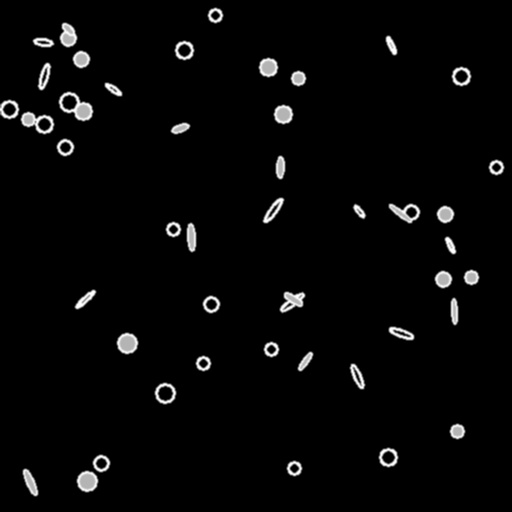pseudomonas: (278, 290, 306, 314), (262, 197, 284, 223), (388, 203, 412, 223), (22, 469, 38, 495), (349, 363, 365, 389), (75, 289, 95, 309), (37, 62, 51, 90), (389, 326, 413, 340), (297, 351, 313, 371), (283, 291, 303, 307), (60, 21, 76, 37), (104, 82, 122, 96), (385, 35, 397, 55), (187, 223, 195, 251), (352, 204, 366, 218), (444, 237, 456, 253), (171, 123, 189, 133), (34, 37, 52, 47), (276, 156, 284, 178), (451, 298, 457, 324)
synechocystis: (156, 384, 174, 402), (60, 93, 78, 111), (118, 334, 136, 352), (78, 472, 96, 490), (36, 116, 52, 132), (1, 101, 17, 117), (453, 68, 469, 84), (380, 449, 396, 465), (75, 103, 91, 119), (275, 106, 291, 122), (176, 42, 192, 58), (260, 59, 276, 75), (436, 272, 450, 286), (94, 456, 108, 470), (74, 52, 88, 66), (204, 297, 218, 311), (58, 140, 72, 154), (61, 31, 75, 45), (438, 207, 452, 221), (404, 205, 418, 219), (465, 271, 477, 283), (288, 462, 300, 474), (22, 113, 34, 125), (209, 9, 221, 21), (167, 223, 179, 235), (451, 425, 463, 437), (265, 343, 277, 355), (292, 72, 304, 84), (197, 357, 209, 369), (490, 161, 502, 173)
